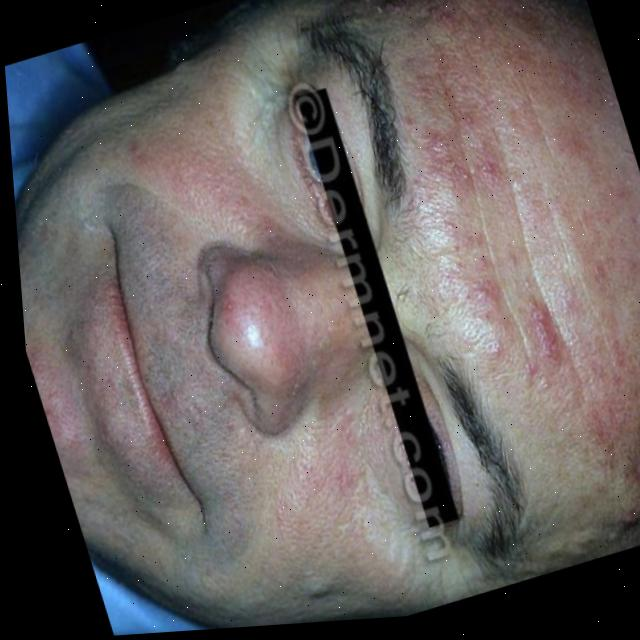Rosacea: (385, 3, 640, 530)
